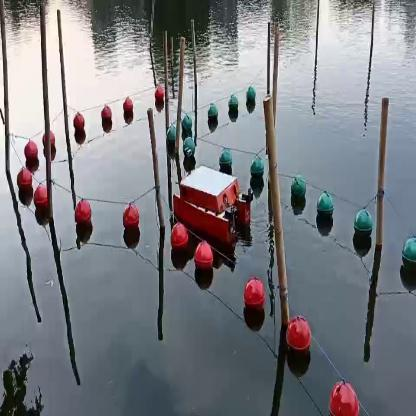green_buoy: (396, 236, 415, 286), (314, 194, 334, 228), (354, 208, 370, 246), (290, 176, 306, 210), (166, 121, 176, 159), (207, 100, 218, 132), (252, 158, 264, 183), (228, 94, 240, 119), (186, 144, 195, 170), (182, 114, 190, 138), (220, 147, 229, 168), (245, 86, 254, 106)
red_buoy: (283, 314, 312, 372), (327, 376, 356, 414), (245, 278, 266, 322), (74, 198, 96, 238), (194, 238, 212, 278), (170, 222, 188, 258), (122, 205, 141, 239), (17, 168, 32, 202), (71, 110, 87, 140), (36, 184, 48, 222), (24, 142, 40, 169), (101, 105, 113, 134), (154, 86, 165, 112), (122, 96, 132, 120)
